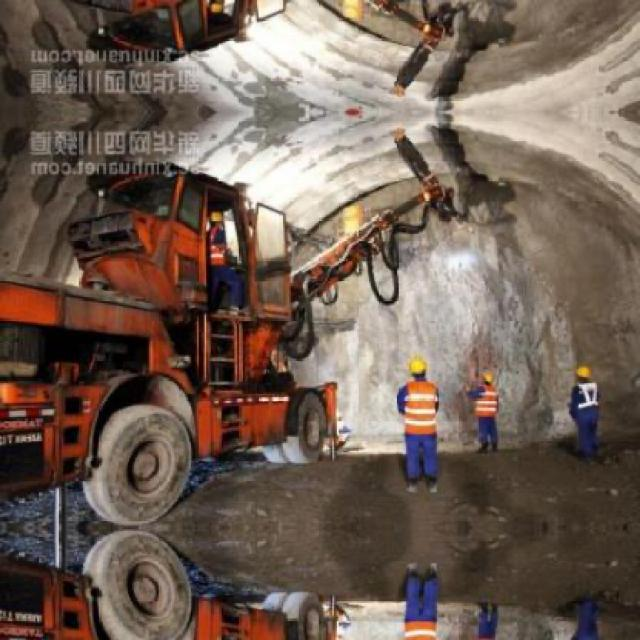helmet: (408, 354, 429, 380), (477, 368, 498, 388), (208, 206, 226, 229), (206, 0, 226, 17), (576, 363, 592, 382)
